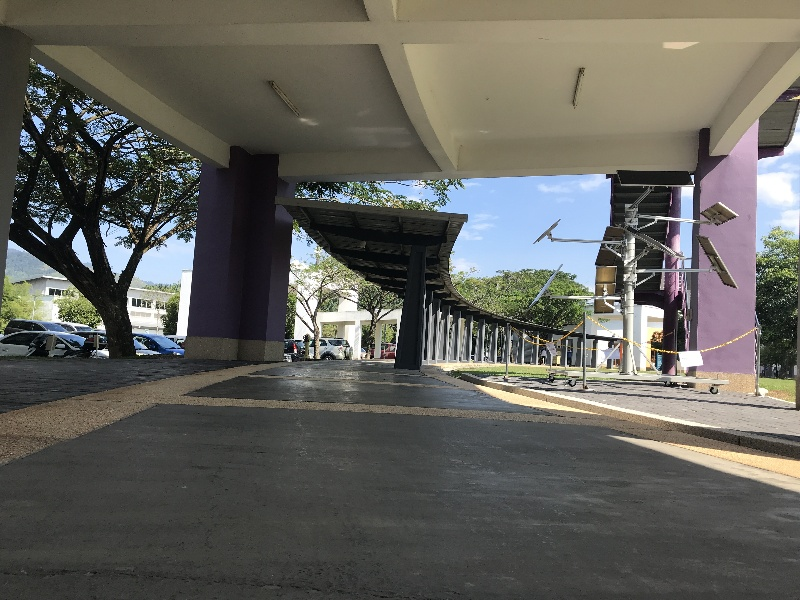Block D Pillar 5: (1, 5, 800, 546)
pillar: (179, 135, 295, 362), (681, 112, 765, 404), (390, 242, 431, 373)
